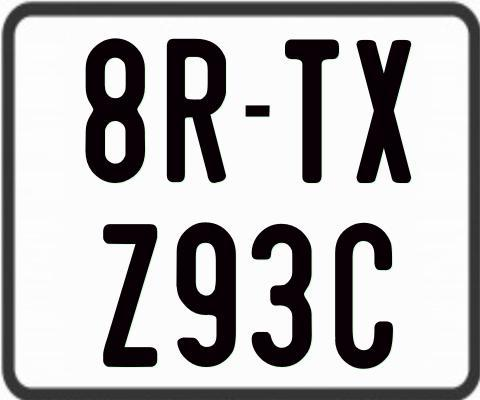3: (250, 224, 313, 367)
8: (84, 35, 145, 183)
9: (175, 222, 240, 367)
C: (335, 223, 396, 370)
R: (165, 38, 230, 182)
T: (283, 36, 340, 180)
X: (354, 40, 409, 189)
Z: (101, 221, 158, 365)
